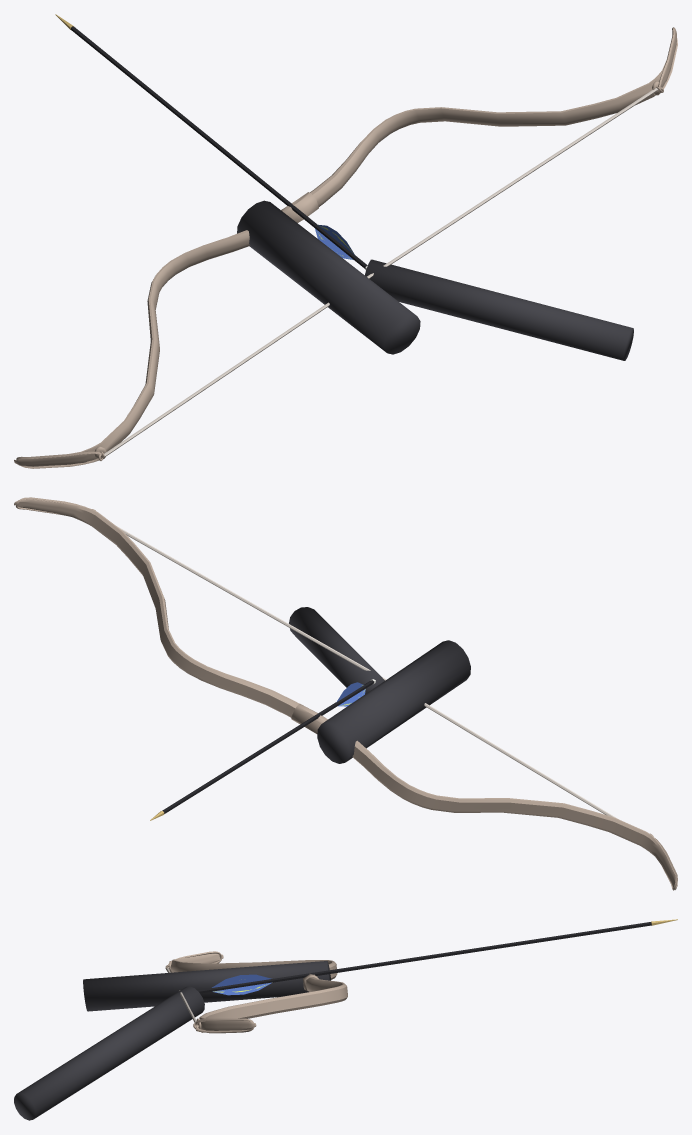
The model's file is Gukgung_Viewmodel_Merged.fbx.
The picture shows the model from 3 angles, top to bottom: view 1: azimuth 30°, elevation 25°; view 2: azimuth 150°, elevation 25°; view 3: azimuth 270°, elevation 25°; orthographic projection. The views are drawn at different scales.
Parts seen in each view (by area): view 1: Gukgung_Bow, Right_Arm_Mesh, Left_Arm_Mesh, Arrow_Gukgung, Gukgung_String; view 2: Gukgung_Bow, Right_Arm_Mesh, Left_Arm_Mesh, Gukgung_String, Arrow_Gukgung; view 3: Left_Arm_Mesh, Right_Arm_Mesh, Gukgung_Bow, Arrow_Gukgung.
Boxes of the visible parts, left/top/right/bottom form: Gukgung_Bow: left=14, top=27, right=677, bottom=468; Right_Arm_Mesh: left=237, top=200, right=420, bottom=354; Left_Arm_Mesh: left=365, top=259, right=633, bottom=360; Arrow_Gukgung: left=55, top=14, right=367, bottom=269; Gukgung_String: left=104, top=88, right=658, bottom=456; Gukgung_Bow: left=14, top=497, right=677, bottom=890; Right_Arm_Mesh: left=317, top=640, right=470, bottom=763; Left_Arm_Mesh: left=289, top=607, right=384, bottom=693; Gukgung_String: left=116, top=526, right=617, bottom=818; Arrow_Gukgung: left=150, top=679, right=375, bottom=820; Left_Arm_Mesh: left=14, top=986, right=204, bottom=1120; Right_Arm_Mesh: left=83, top=961, right=330, bottom=1011; Gukgung_Bow: left=165, top=951, right=347, bottom=1033; Arrow_Gukgung: left=197, top=919, right=677, bottom=995.
Size of the model in its own units: 118 by 43.57 by 112.
